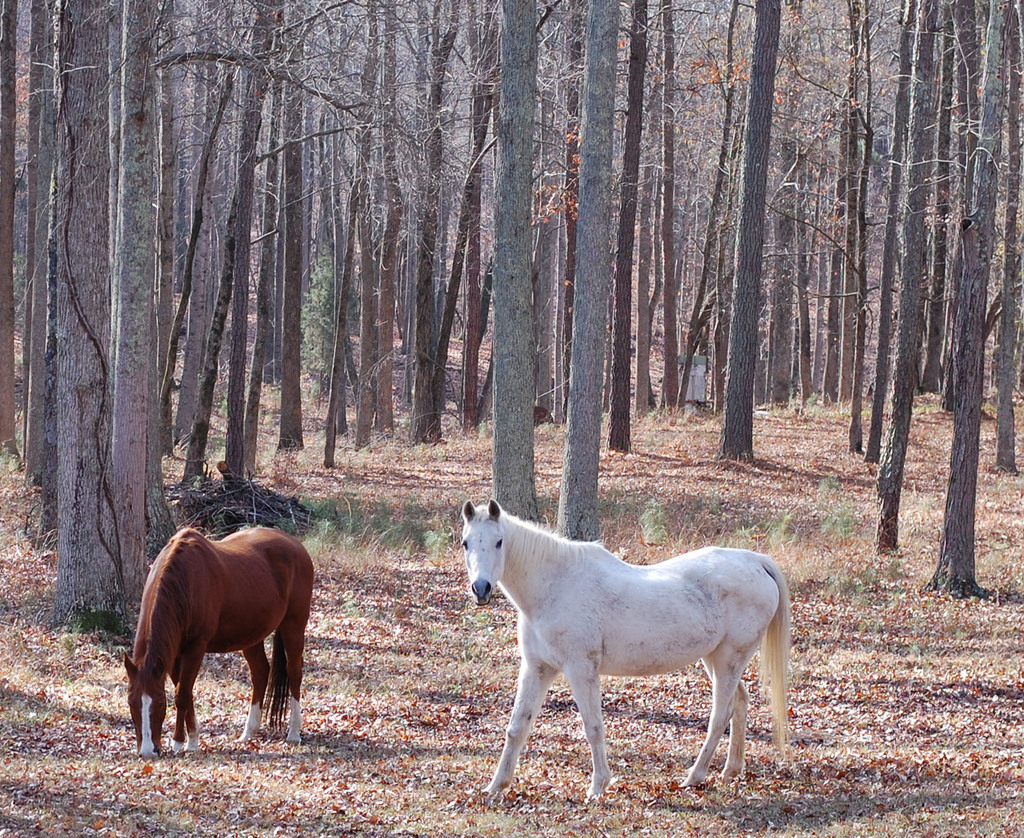horse: (458, 497, 792, 804), (120, 522, 316, 761)
